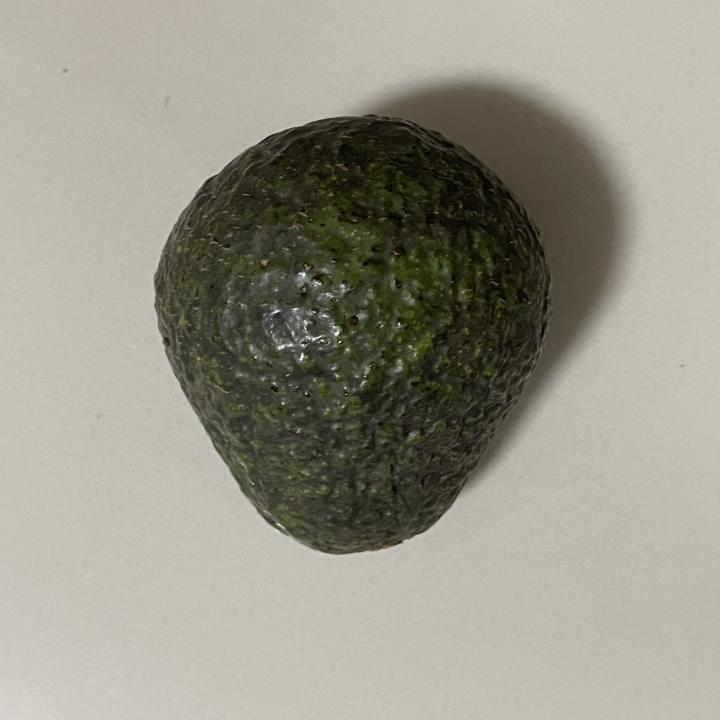Level1: (139, 106, 563, 566)
